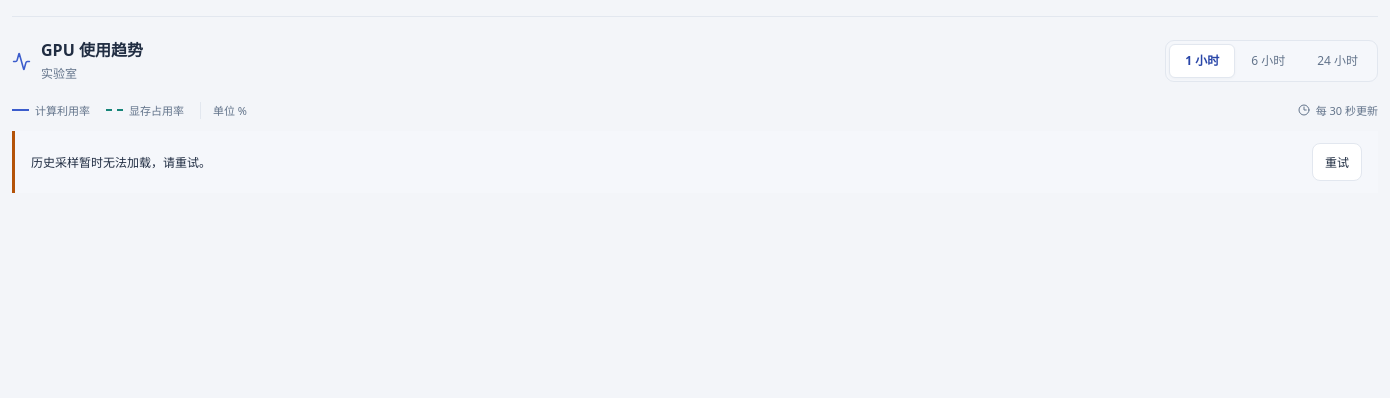
Test: a failed history request can be retried from the panel
This screenshot has width=1390, height=398.
expect the message shows "请重试": met, box x1=31 y1=154 x2=211 y2=171
Click the button "重试". click: (1337, 162)
box: x1=1312 y1=143 x2=1362 y2=181
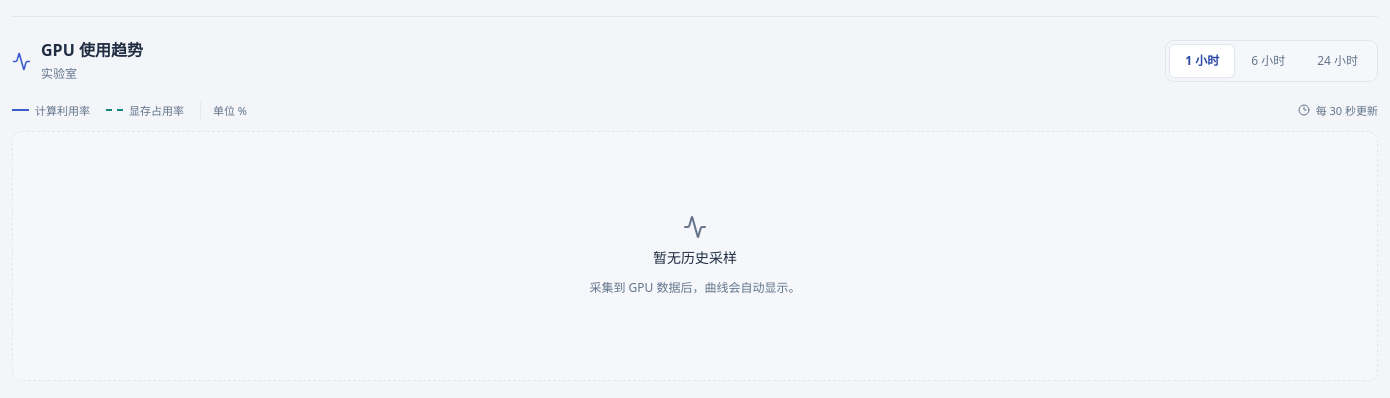
expect the text "暂无历史采样" is shown: met, box x1=653 y1=247 x2=737 y2=270
expect the message "历史采样暂时无法加载，请重试。 重试" is gone: met
